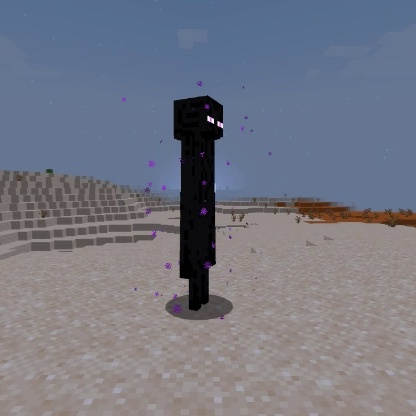enderman: (169, 93, 226, 315)
